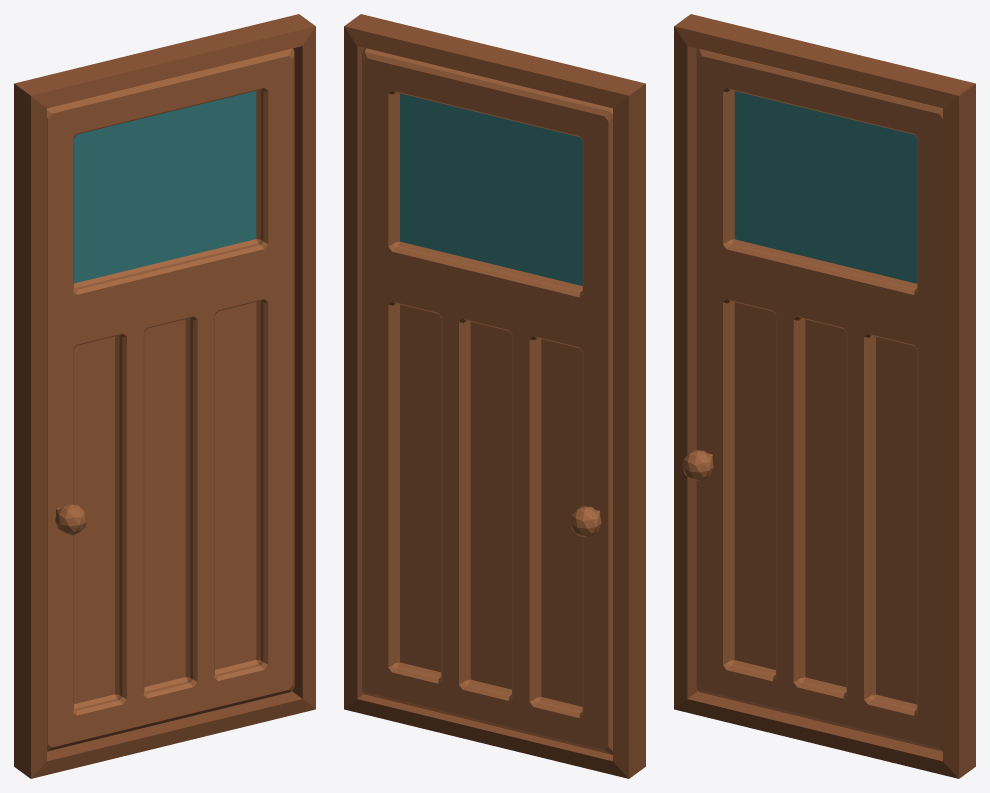
File: puerta.glb
3 renders of one model, left to right at view 1: azimuth 30°, elevation 25°; view 2: azimuth 150°, elevation 25°; view 3: azimuth 330°, elevation 25°, orthographic.
Parts seen in each view (by area): view 1: Door C, Door C.001; view 2: Door C, Door C.001; view 3: Door C, Door C.001.
Part boxes in pixels (x1=…): Door C: x1=47, y1=48, x2=294, y2=751; Door C.001: x1=14, y1=14, x2=315, y2=778; Door C: x1=362, y1=48, x2=612, y2=754; Door C.001: x1=344, y1=14, x2=645, y2=778; Door C: x1=682, y1=48, x2=942, y2=751; Door C.001: x1=674, y1=14, x2=975, y2=778.
Size of the model in its own units: 4.57 by 10.47 by 1.45.
